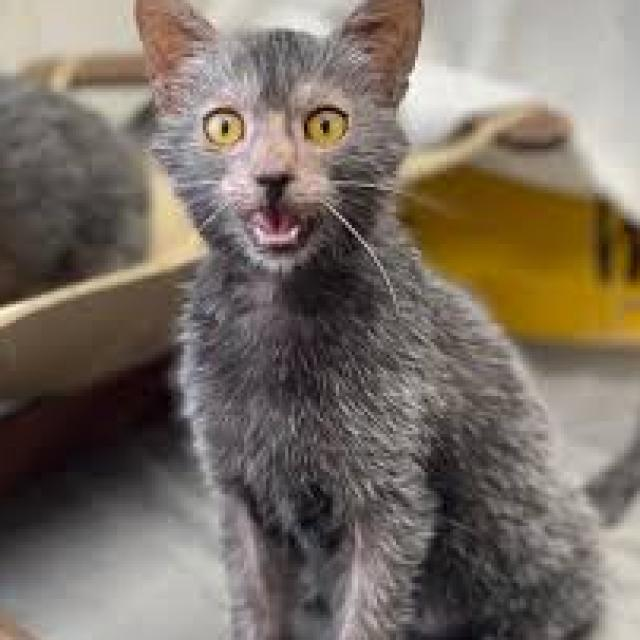Lykoi: (130, 0, 640, 640)
